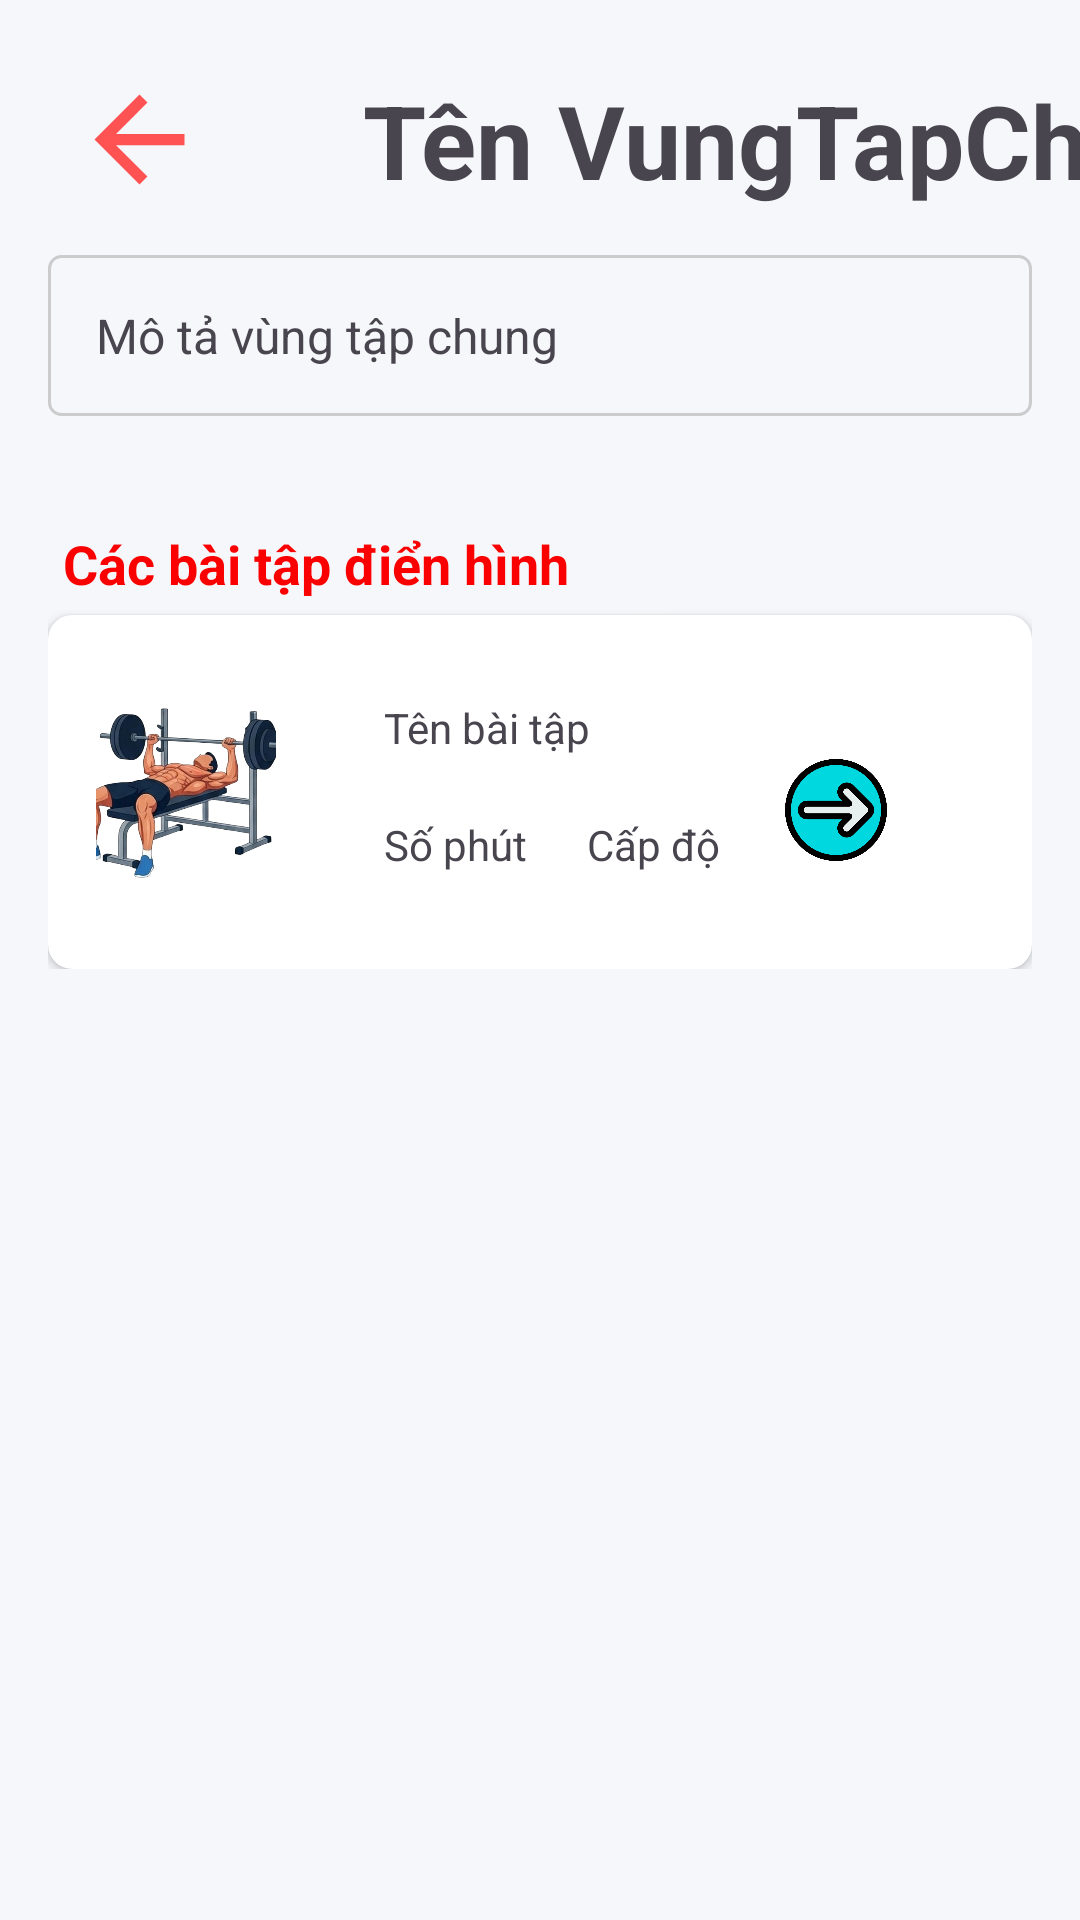

Icons on this 1080px×1920px Android screen, each with its box as (x1, y1, x2, y2):
back: (94, 94, 185, 185)
vungtapchung nguc: (96, 708, 276, 878)
